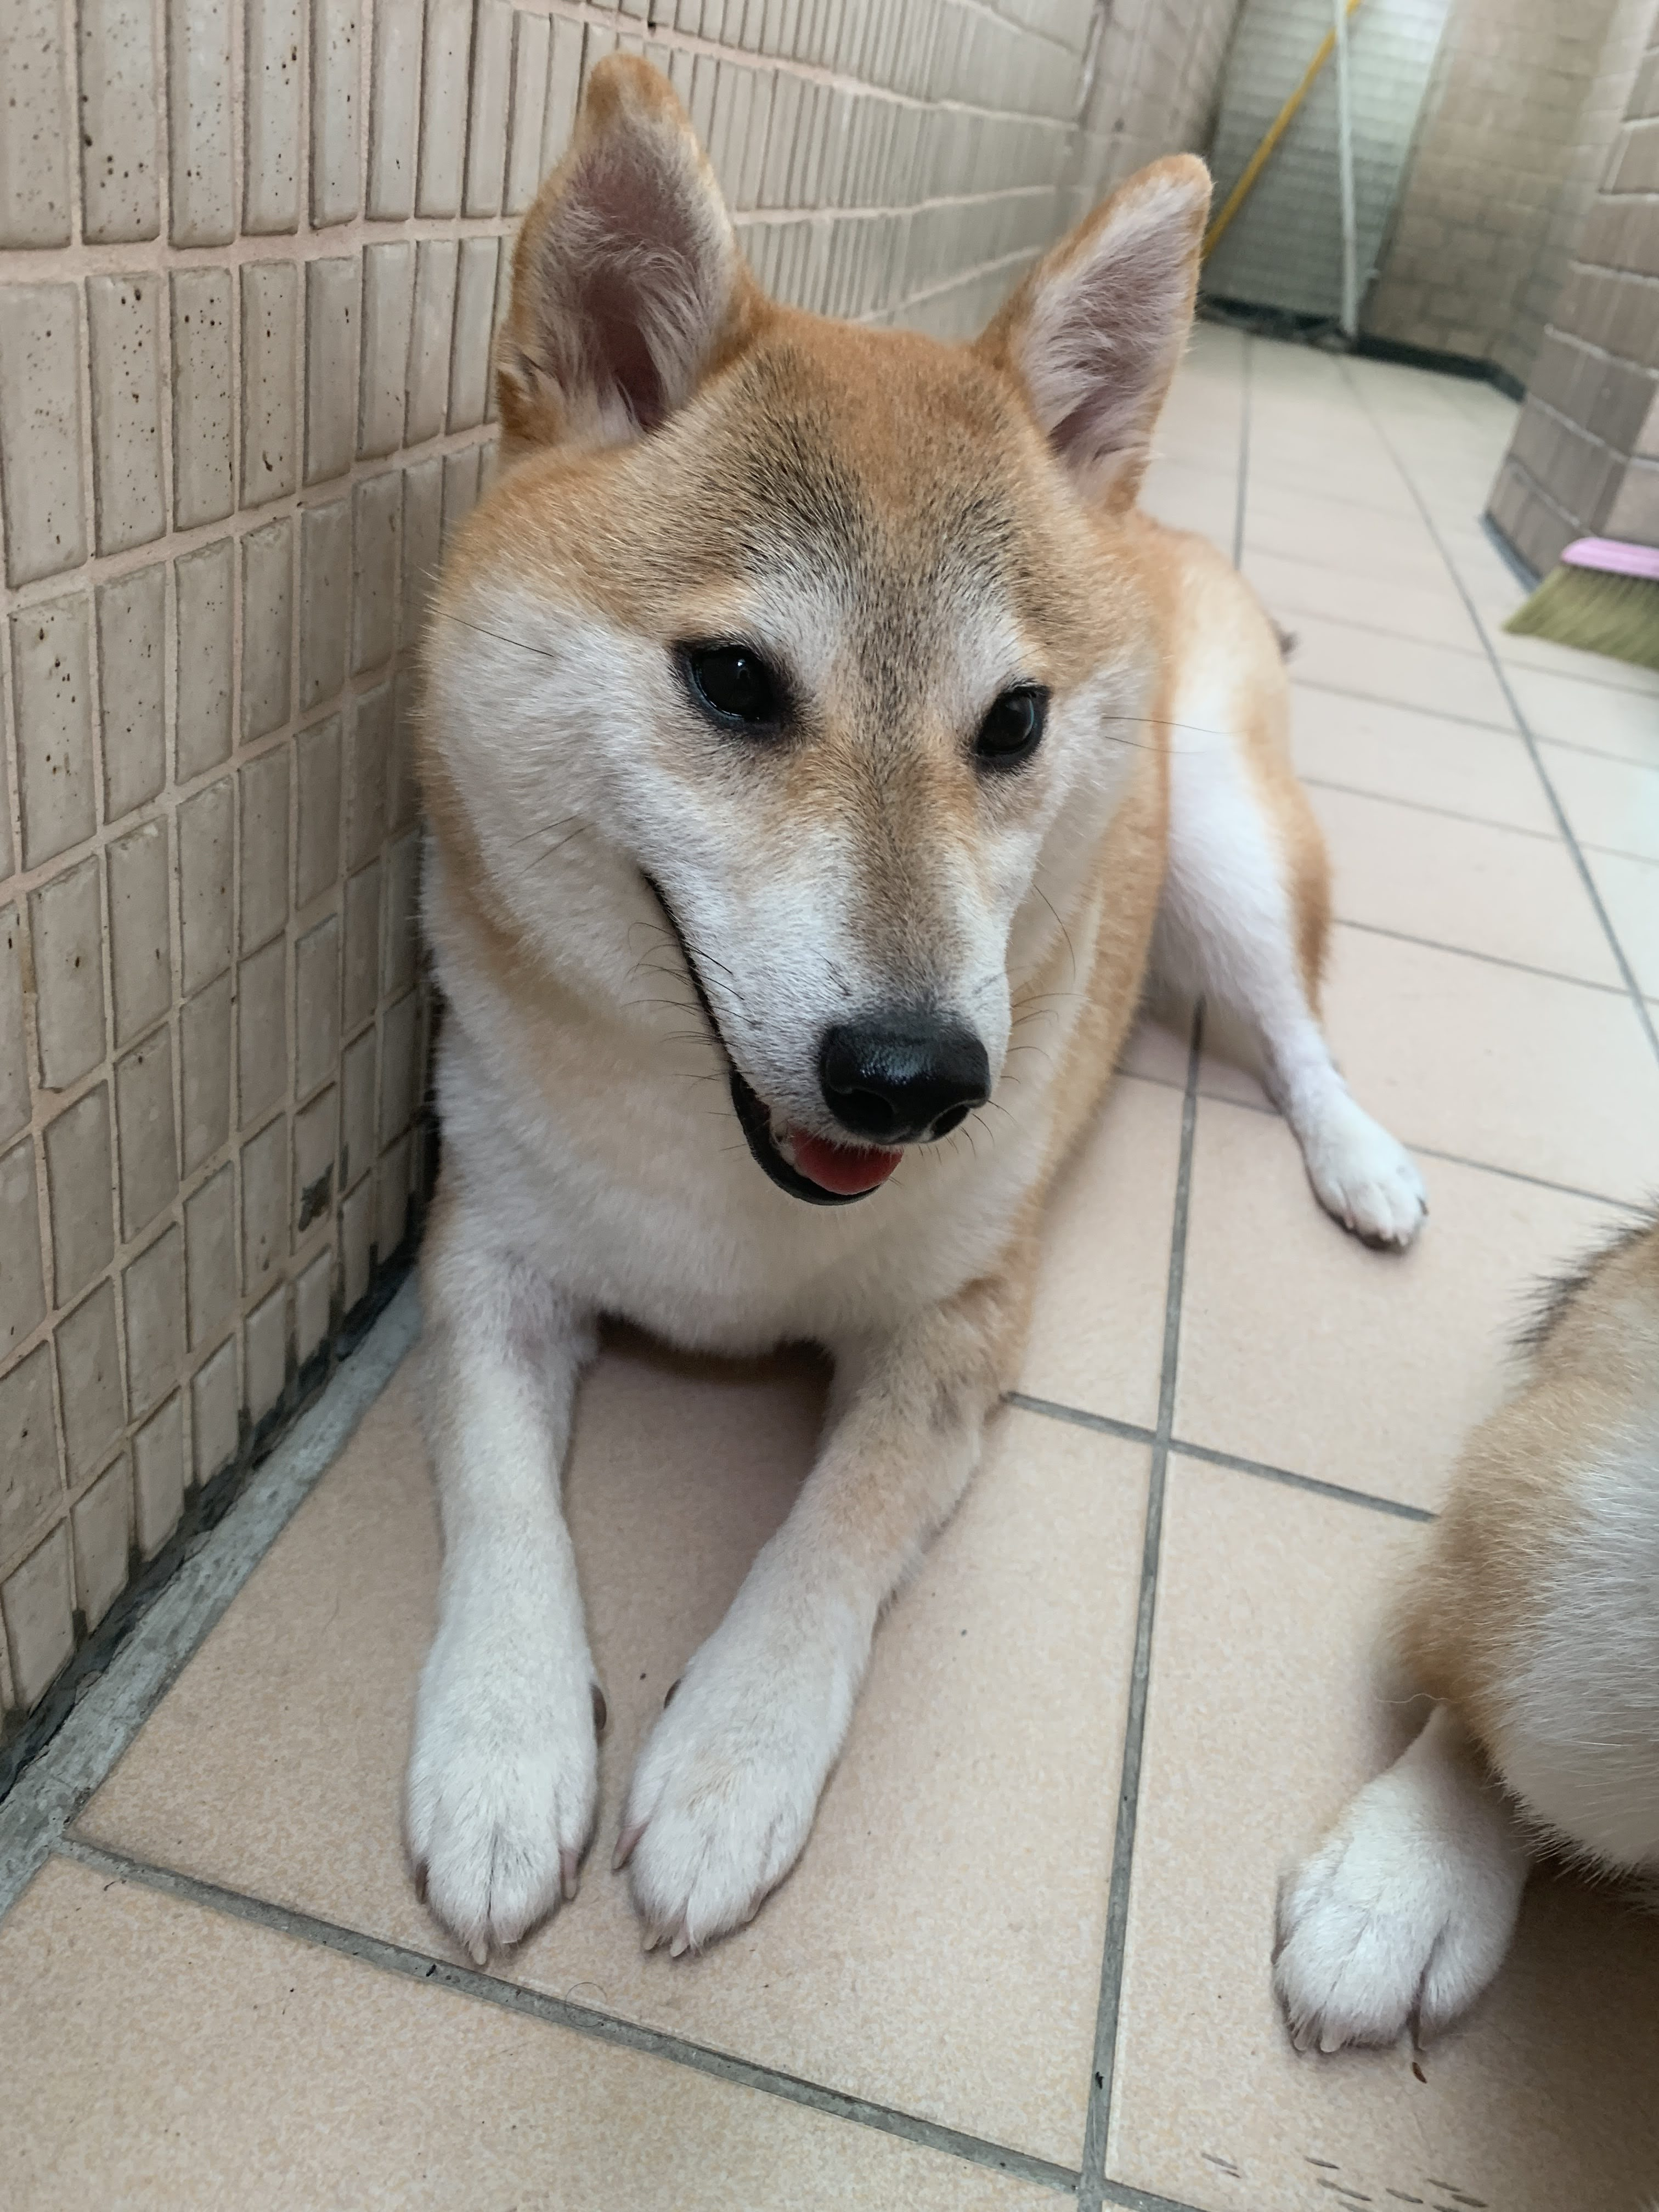Get down: (308, 37, 1398, 1946)
